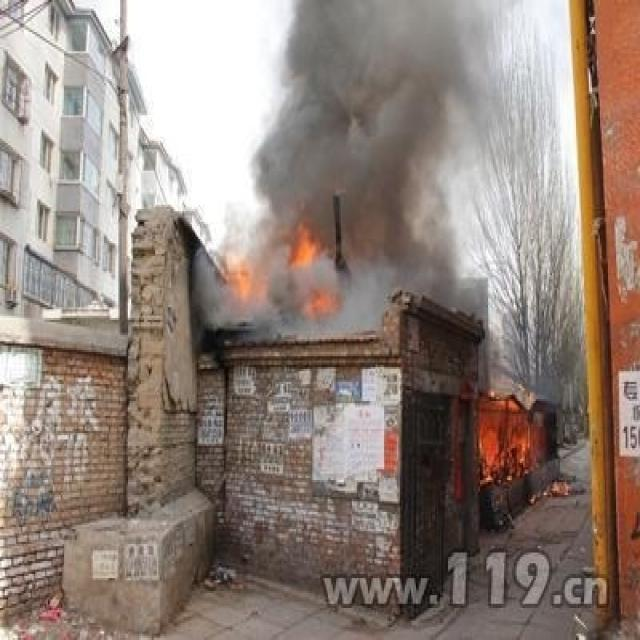Fire: (480, 428, 531, 484), (291, 224, 317, 269)
Smoke: (192, 2, 504, 339)
